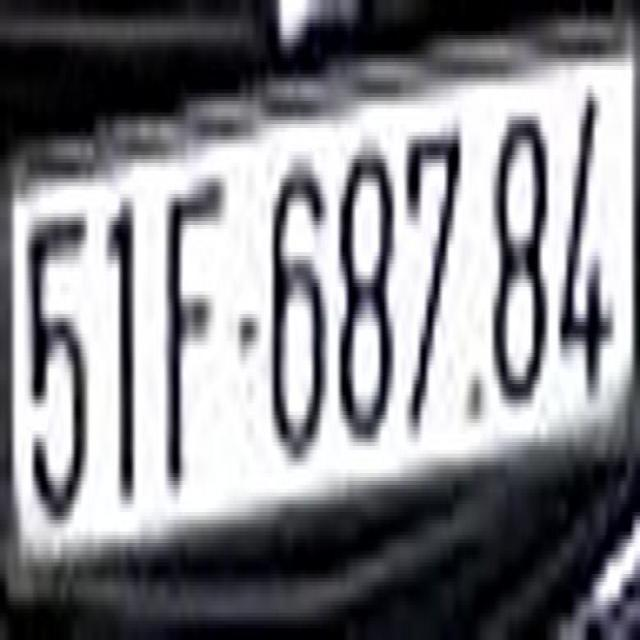1: (101, 159, 148, 528)
4: (558, 62, 614, 419)
5: (25, 205, 92, 547)
6: (267, 97, 330, 473)
7: (402, 81, 461, 438)
8: (488, 54, 552, 438), (335, 97, 392, 462)
F: (157, 132, 226, 492)
